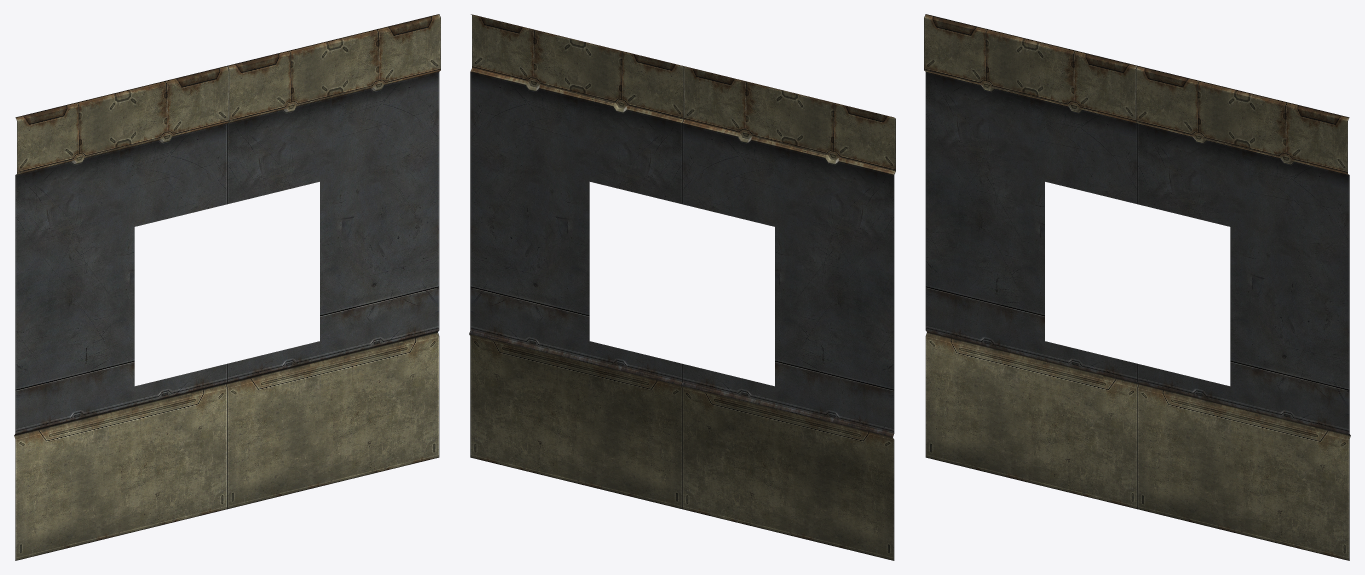
Rendered from datasite_flat01_maintenance_hatch.dae.
The picture shows the model from 3 angles, left to right: view 1: azimuth 30°, elevation 25°; view 2: azimuth 150°, elevation 25°; view 3: azimuth 330°, elevation 25°; orthographic projection.
Parts seen in each view (by area): view 1: flat01_maintenance_hatch; view 2: flat01_maintenance_hatch; view 3: flat01_maintenance_hatch.
Boxes of the visible parts, <box> form: flat01_maintenance_hatch: <box>14,14,440,560</box>; flat01_maintenance_hatch: <box>469,14,895,560</box>; flat01_maintenance_hatch: <box>924,14,1350,560</box>.
Bounding box in the file's own units: 4 × 4 × 0.0483.
